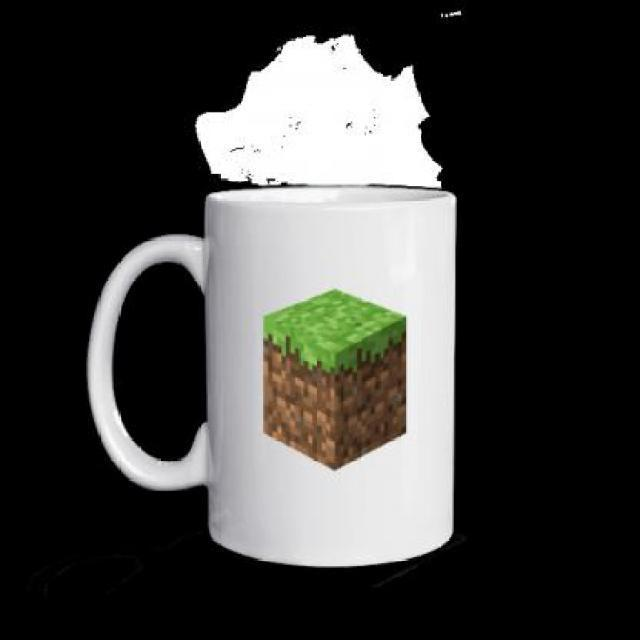taza: (88, 180, 458, 568)
